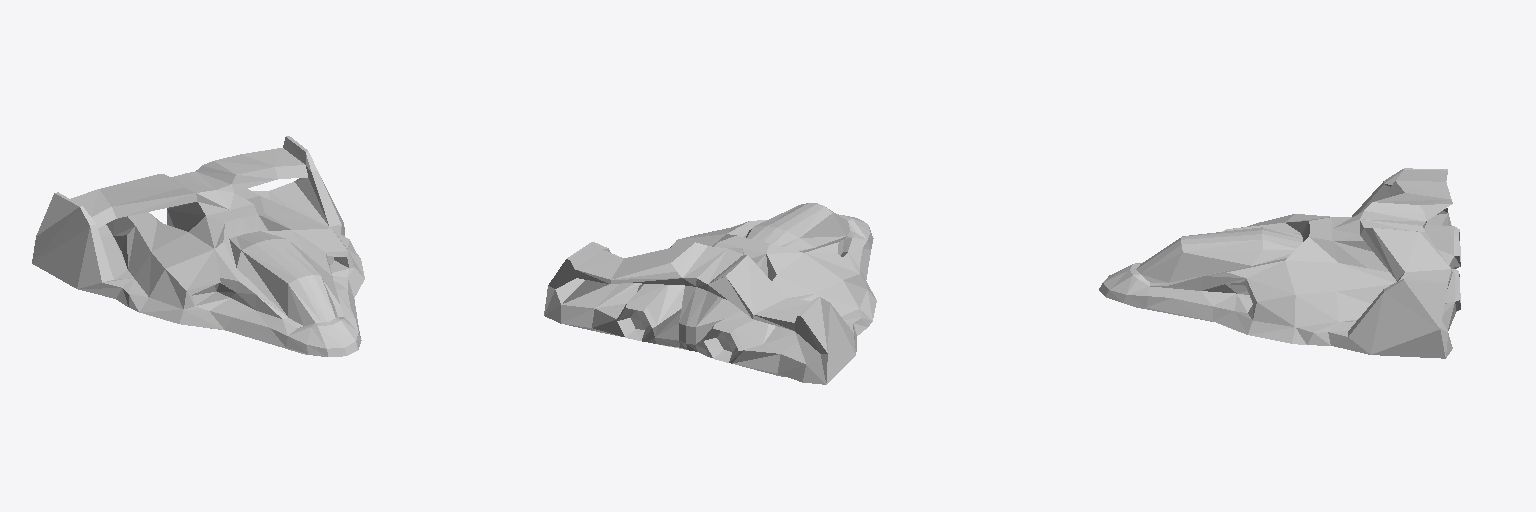
File: venkman.obj
3 views of the same model, side by side, from view 1: azimuth 30°, elevation 25°; view 2: azimuth 150°, elevation 25°; view 3: azimuth 270°, elevation 25° (orthographic).
Visible parts, largest first — view 1: Body, Glass; view 2: Body, Glass, Engine; view 3: Body, Glass.
Part boxes in pixels (left/top/right/bottom): Body: left=32, top=136, right=364, bottom=356; Glass: left=229, top=231, right=337, bottom=325; Body: left=544, top=214, right=876, bottom=384; Glass: left=556, top=203, right=849, bottom=352; Engine: left=617, top=308, right=737, bottom=362; Body: left=1099, top=168, right=1460, bottom=358; Glass: left=1136, top=227, right=1302, bottom=282.
Bounding box in the file's own units: 1.84 × 0.5114 × 2.05.